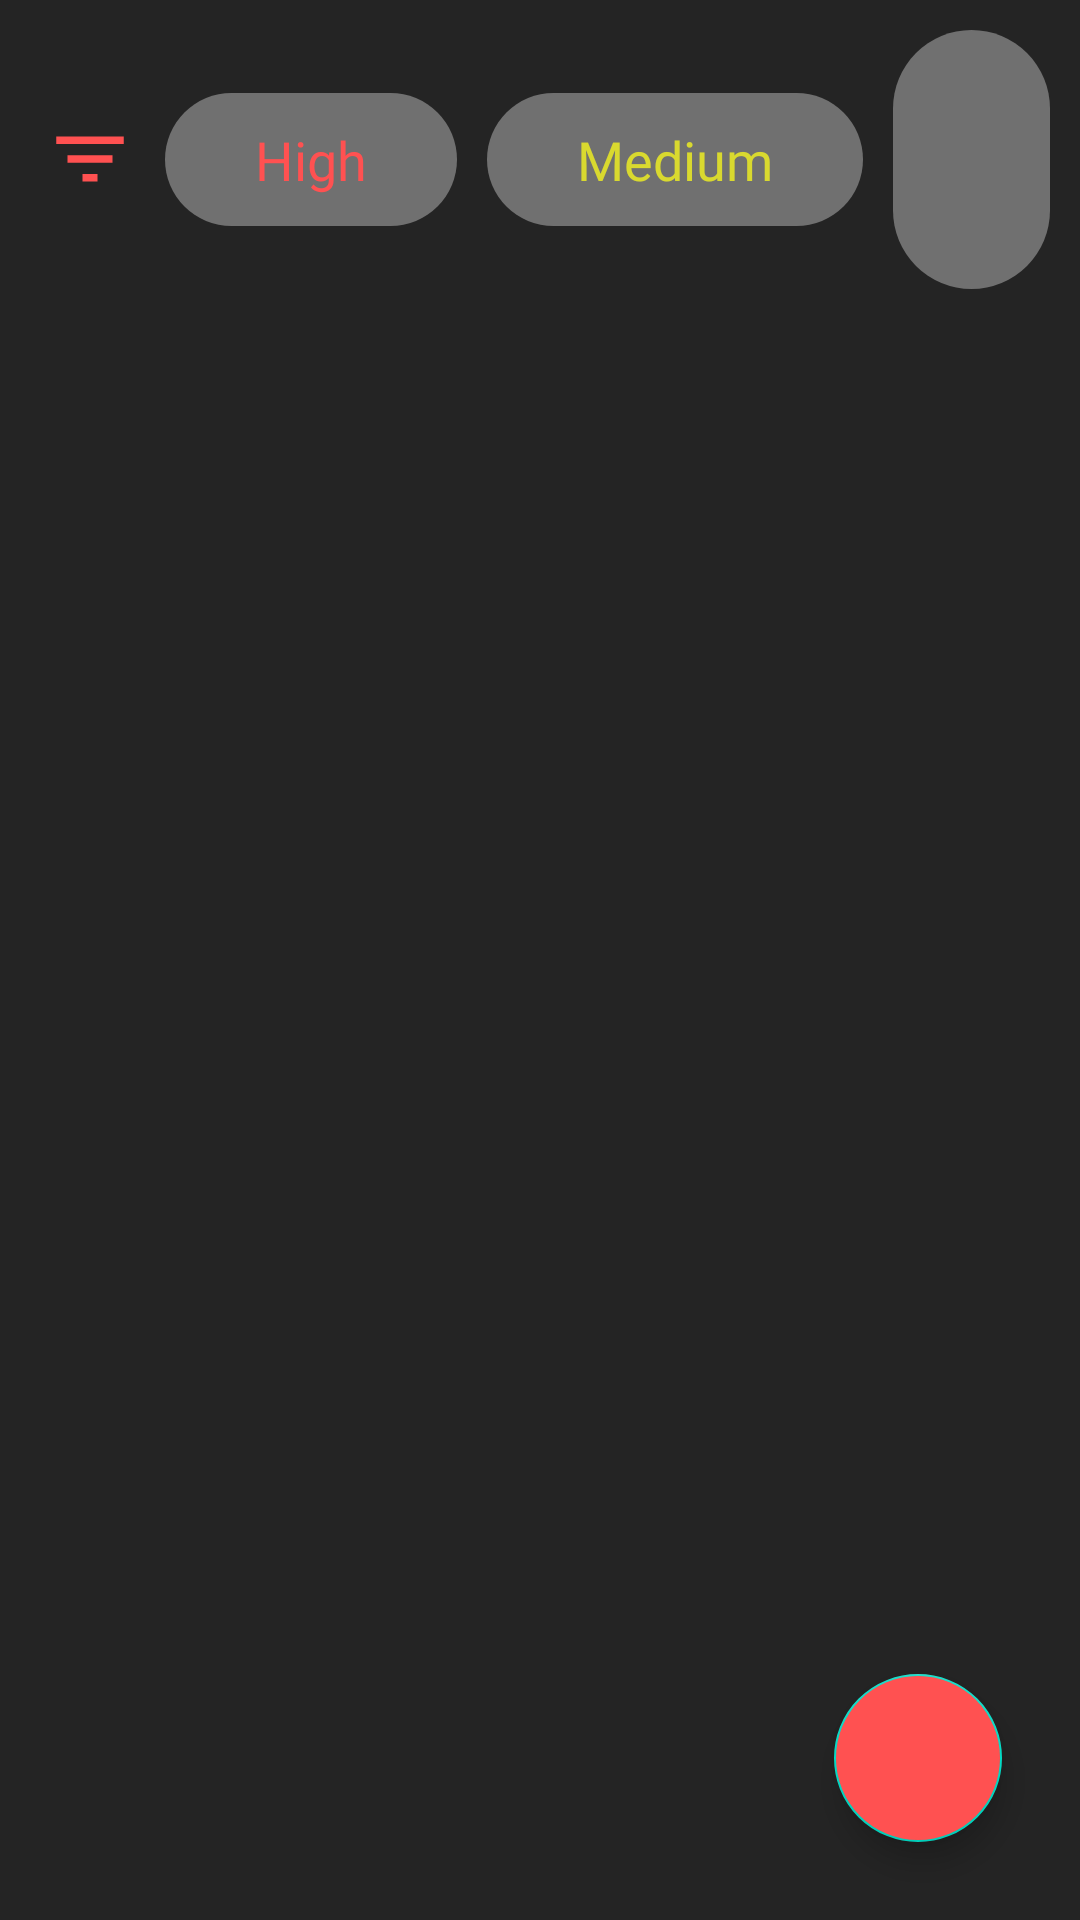

Icon bounding boxes for this 1080×1920 phone screenshot, format (x1, y1, x2, y2):
filter list: (56, 136, 124, 182)
